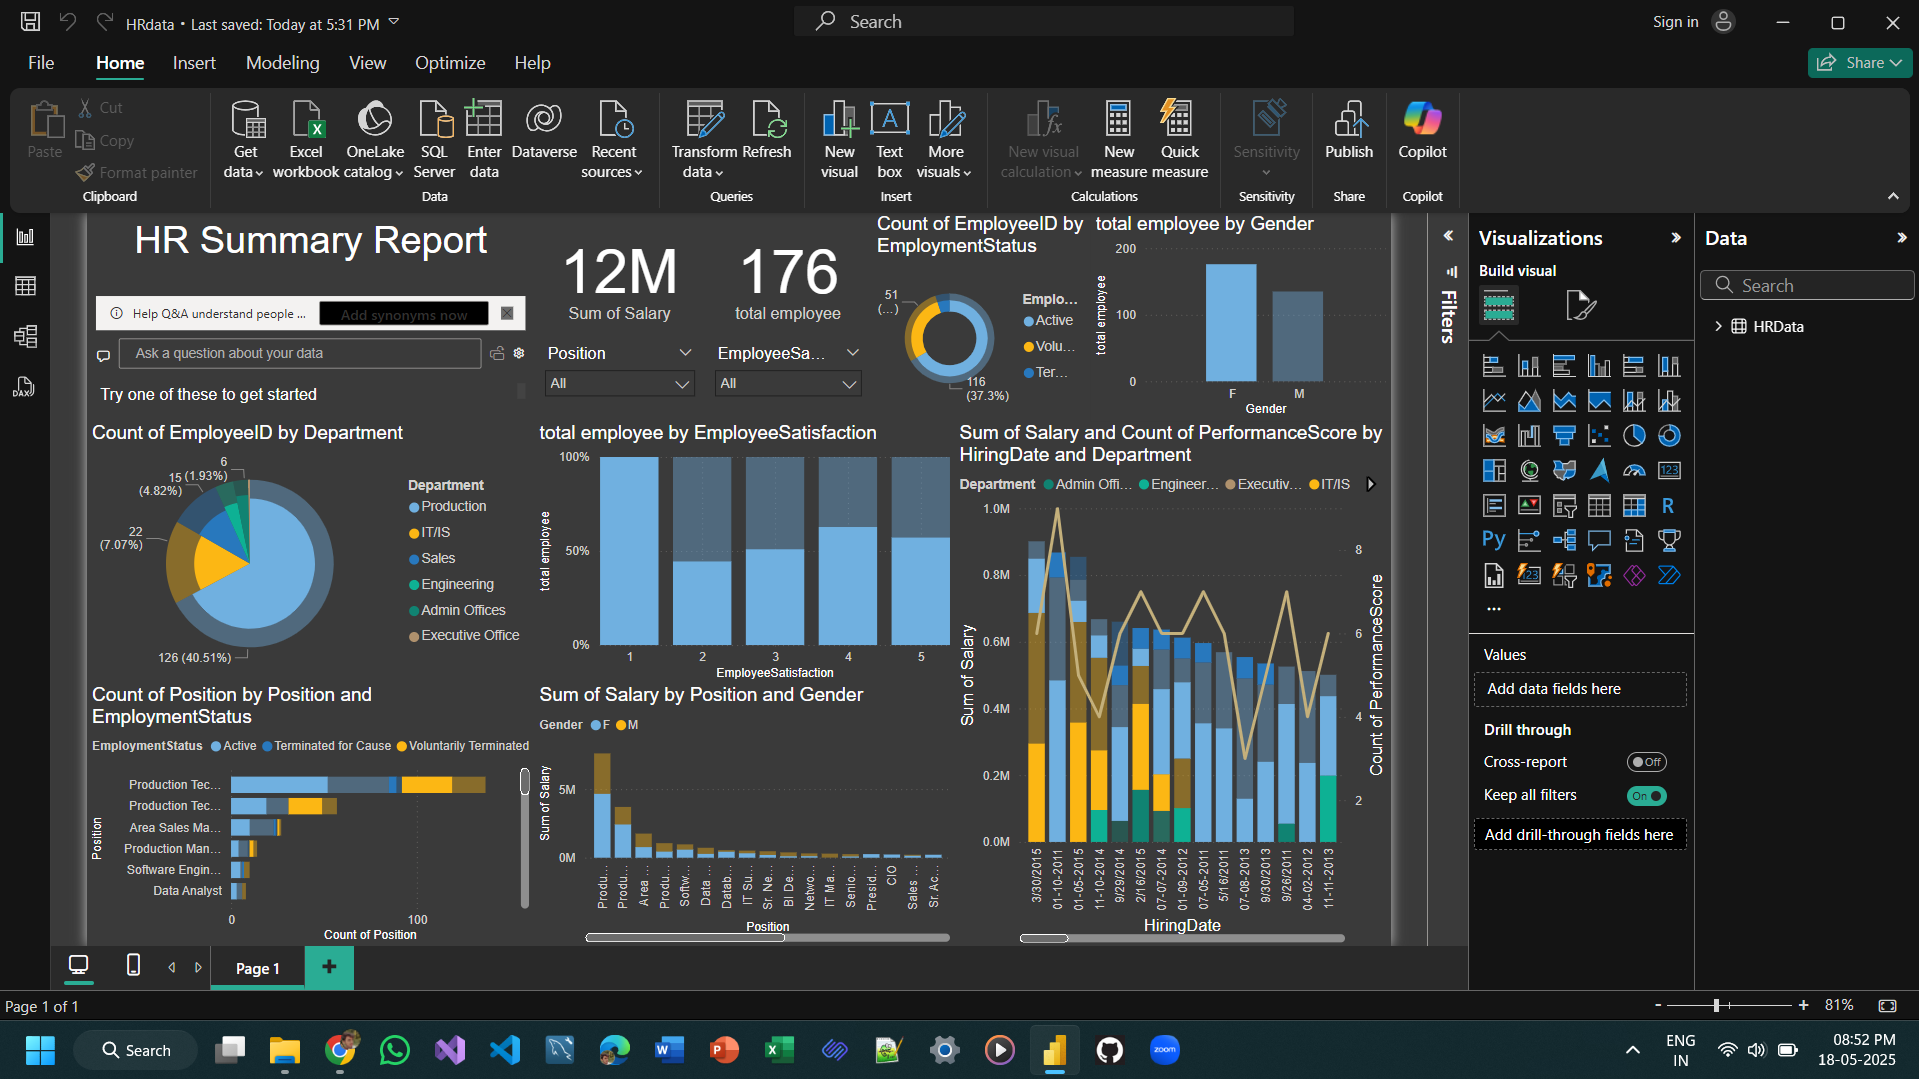

Layout of this report page (visuals, bound fields, positions):
{"tool":"powerbi","page":{"name":"Page 1","canvas":[1280,720],"ordinal":0},"visuals":[{"type":"barChart","fields":{"Category":["HRData.Position"],"Series":["HRData.EmploymentStatus"],"Y":["CountNonNull(HRData.Position)"]},"box":[0,462.4,439.1,258],"z":0},{"type":"columnChart","fields":{"Y":["Sum(HRData.Salary)"],"Category":["HRData.Position"],"Series":["HRData.Gender"]},"box":[439.1,462.4,413,258],"z":1000},{"type":"lineStackedColumnComboChart","fields":{"Y":["Sum(HRData.Salary)"],"Category":["HRData.HiringDate"],"Series":["HRData.Department"],"Y2":["CountNonNull(HRData.PerformanceScore)"]},"box":[852.1,204.5,428.1,516],"z":2000},{"type":"pieChart","fields":{"Category":["HRData.Department"],"Y":["CountNonNull(HRData.EmployeeID)"]},"box":[0,204.5,439.1,258],"z":3000},{"type":"hundredPercentStackedColumnChart","fields":{"Y":["HRData.total employee"],"Category":["HRData.EmployeeSatisfaction"]},"box":[439.1,204.5,413,258],"z":4000},{"type":"card","fields":{"Values":["Sum(HRData.Salary)"]},"box":[439.1,0,167.4,123.5],"z":5000},{"type":"textbox","box":[0,0,439.1,68.4],"z":6000},{"type":"card","fields":{"Values":["HRData.total employee"]},"box":[606.5,0,164.7,123.5],"z":7000},{"type":"donutChart","fields":{"Category":["HRData.EmploymentStatus"],"Y":["CountNonNull(HRData.EmployeeID)"]},"box":[770.6,0,214.7,204.9],"z":8000},{"type":"columnChart","fields":{"Category":["HRData.Gender"],"Y":["HRData.total employee"]},"box":[985.2,0,294.8,204],"z":9000},{"type":"qnaVisual","box":[0,68.7,439.3,136.2],"z":10000},{"type":"slicer","fields":{"Values":["HRData.Position"]},"box":[439.1,123.5,167.4,81],"z":11000},{"type":"slicer","fields":{"Values":["HRData.EmployeeSatisfaction"]},"box":[606.5,123.5,164.7,82.3],"z":12000}]}

Visuals, with their boxes on the page's 1280x720 design canvas (x1, y1, x2, y2). These are canvas units, not pixel positions in the 1919x1079 screenshot, which may show the page scaled, cropped or inside an application window:
barChart - HRData.Position x HRData.EmploymentStatus: {"left": 0, "top": 462, "right": 439, "bottom": 720}
columnChart - Sum(HRData.Salary) x HRData.Position: {"left": 439, "top": 462, "right": 852, "bottom": 720}
lineStackedColumnComboChart - Sum(HRData.Salary) x HRData.HiringDate: {"left": 852, "top": 204, "right": 1280, "bottom": 720}
pieChart - HRData.Department x CountNonNull(HRData.EmployeeID): {"left": 0, "top": 204, "right": 439, "bottom": 462}
hundredPercentStackedColumnChart - HRData.total employee x HRData.EmployeeSatisfaction: {"left": 439, "top": 204, "right": 852, "bottom": 462}
card - Sum(HRData.Salary): {"left": 439, "top": 0, "right": 606, "bottom": 124}
textbox: {"left": 0, "top": 0, "right": 439, "bottom": 68}
card - HRData.total employee: {"left": 606, "top": 0, "right": 771, "bottom": 124}
donutChart - HRData.EmploymentStatus x CountNonNull(HRData.EmployeeID): {"left": 771, "top": 0, "right": 985, "bottom": 205}
columnChart - HRData.Gender x HRData.total employee: {"left": 985, "top": 0, "right": 1280, "bottom": 204}
qnaVisual: {"left": 0, "top": 69, "right": 439, "bottom": 205}
slicer - HRData.Position: {"left": 439, "top": 124, "right": 606, "bottom": 204}
slicer - HRData.EmployeeSatisfaction: {"left": 606, "top": 124, "right": 771, "bottom": 206}
